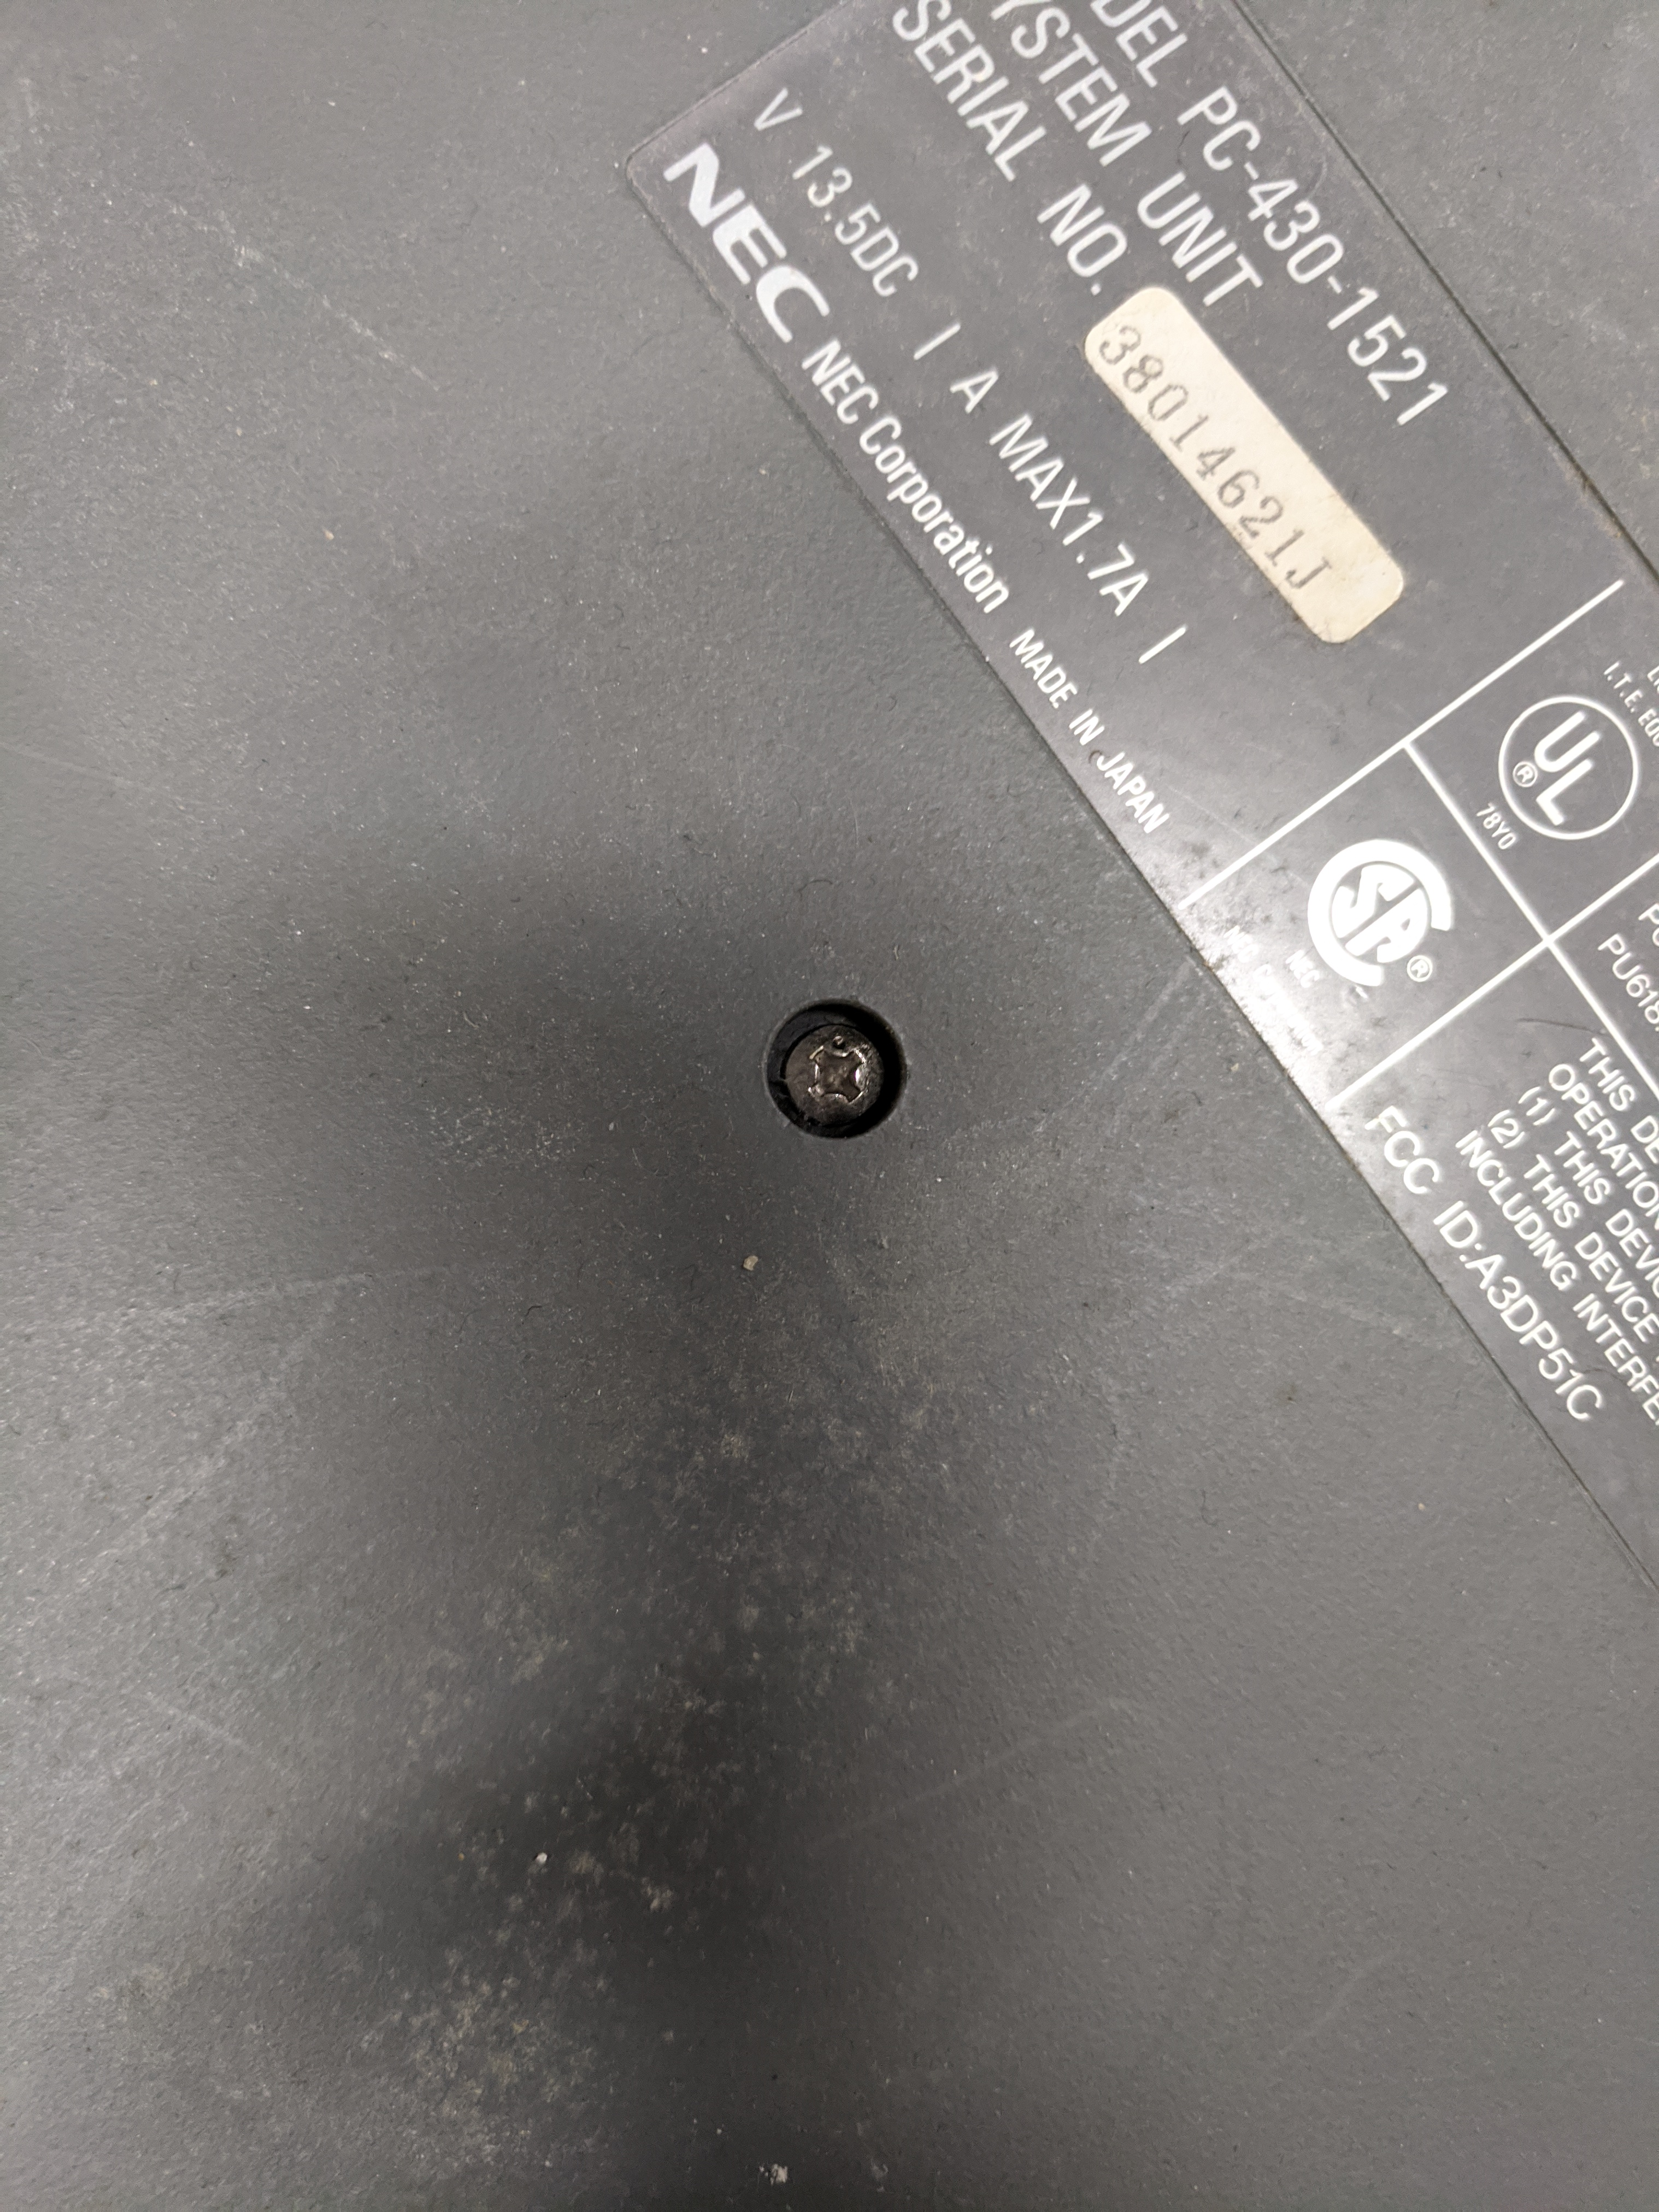cross_recessed_screw: (760, 1005, 904, 1136)
